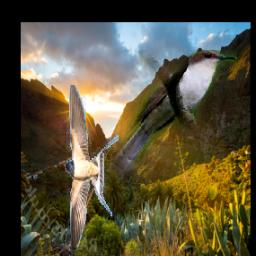Cuckoo: (99, 51, 236, 192)
Swallow: (65, 85, 119, 248)
